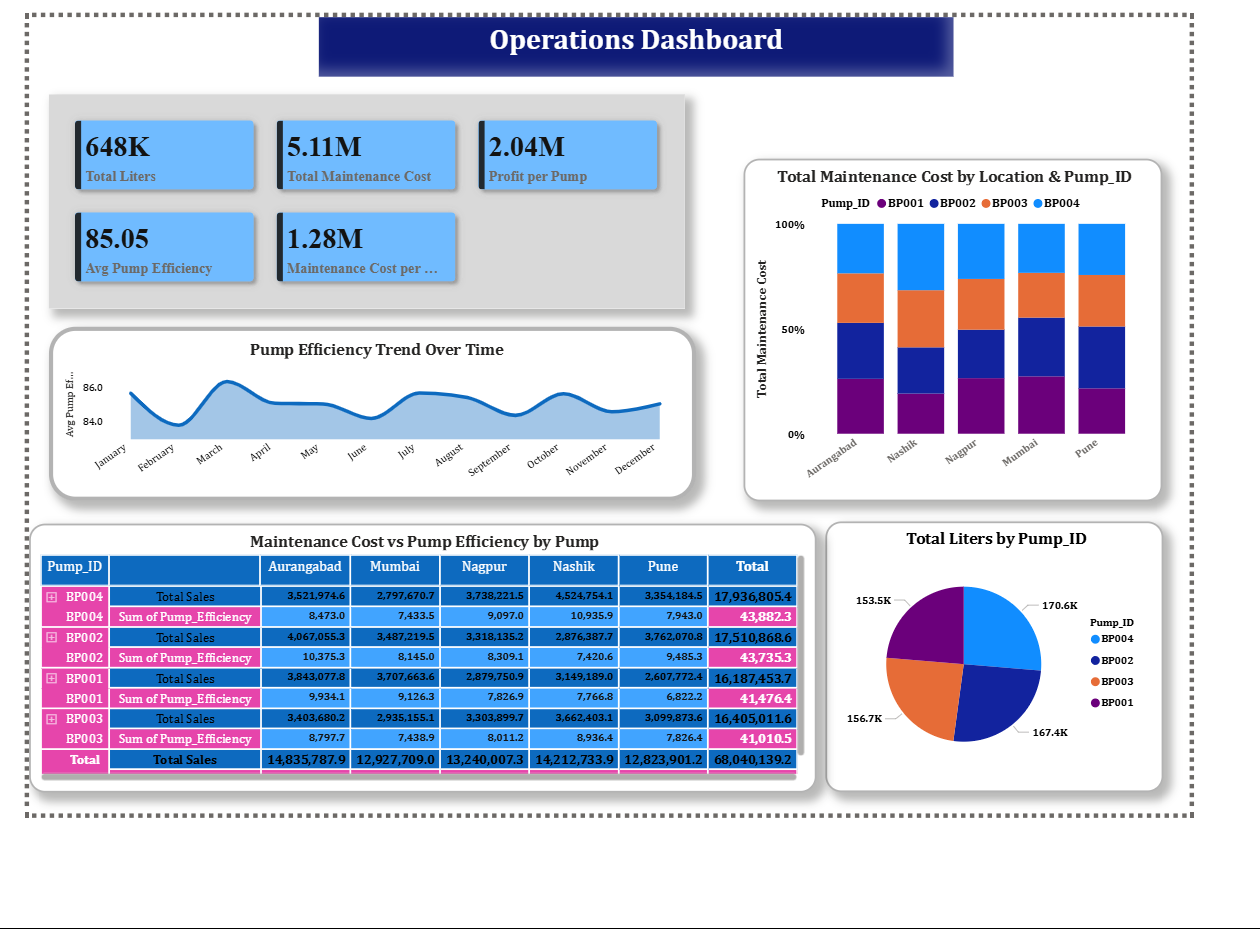

The dashboard page shown, as its layout file describes it:
{"tool":"powerbi","page":{"name":"Operations Dashboard","canvas":[1311,900],"ordinal":2},"visuals":[{"type":"cardVisual","fields":{"Data":["Bharat_Petrol.Total Liters","Bharat_Petrol.Total Maintenance Cost","Bharat_Petrol.Profit per Pump","Bharat_Petrol.Avg Pump Efficiency","Bharat_Petrol.Maintenance Cost per Pump"]},"box":[23.7,87.3,718.7,242],"z":0},{"type":"textbox","box":[327.5,0,717.5,67.5],"z":1000},{"type":"pieChart","fields":{"Category":["Bharat_Petrol.Pump_ID"],"Y":["Bharat_Petrol.Total Liters"]},"box":[898.8,569.5,382.1,305.7],"z":2000},{"type":"hundredPercentStackedColumnChart","title":"Total Maintenance Cost by Location & Pump_ID","fields":{"Category":["Bharat_Petrol.Location"],"Y":["Bharat_Petrol.Total Maintenance Cost"],"Series":["Bharat_Petrol.Pump_ID"]},"box":[807.8,160.1,473.1,387.5],"z":3000},{"type":"stackedAreaChart","title":"Pump Efficiency Trend Over Time","fields":{"Category":["Bharat_Petrol.Date.Variation.Date Hierarchy.Month"],"Y":["Bharat_Petrol.Avg Pump Efficiency"]},"box":[23.7,351.2,731.4,196.5],"z":4000},{"type":"pivotTable","title":"Maintenance Cost vs Pump Efficiency by Pump","fields":{"Rows":["Bharat_Petrol.Pump_ID","Bharat_Petrol.Maintenance_Issue"],"Columns":["Bharat_Petrol.Location"],"Values":["Bharat_Petrol.Total Sales","Sum(Bharat_Petrol.Pump_Efficiency)"]},"box":[0,571.3,889.7,303.8],"z":5000}]}

Visuals, with their boxes on the page's 1311x900 design canvas (x1, y1, x2, y2). These are canvas units, not pixel positions in the 1260x929 screenshot, which may show the page scaled, cropped or inside an application window:
cardVisual - Bharat_Petrol.Total Liters x Bharat_Petrol.Total Maintenance Cost: <bbox>24, 87, 742, 329</bbox>
textbox: <bbox>328, 0, 1045, 68</bbox>
pieChart - Bharat_Petrol.Pump_ID x Bharat_Petrol.Total Liters: <bbox>899, 570, 1281, 875</bbox>
"Total Maintenance Cost by Location & Pump_ID" hundredPercentStackedColumnChart: <bbox>808, 160, 1281, 548</bbox>
"Pump Efficiency Trend Over Time" stackedAreaChart: <bbox>24, 351, 755, 548</bbox>
"Maintenance Cost vs Pump Efficiency by Pump" pivotTable: <bbox>0, 571, 890, 875</bbox>
